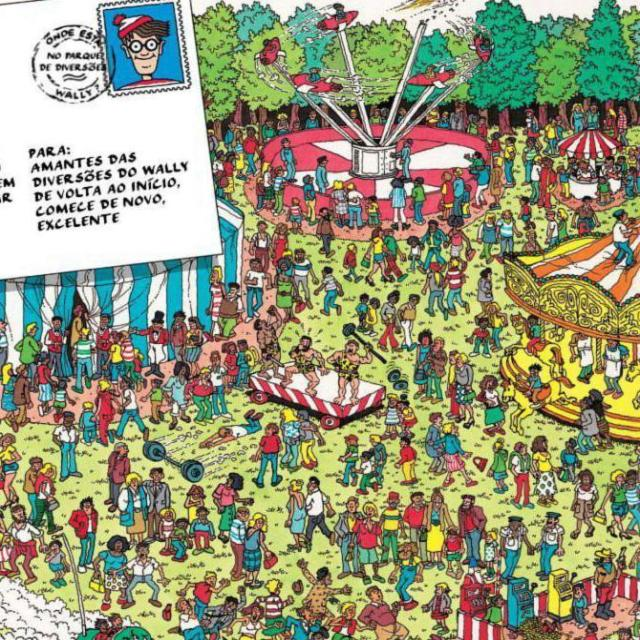waldo: (112, 14, 169, 75)
